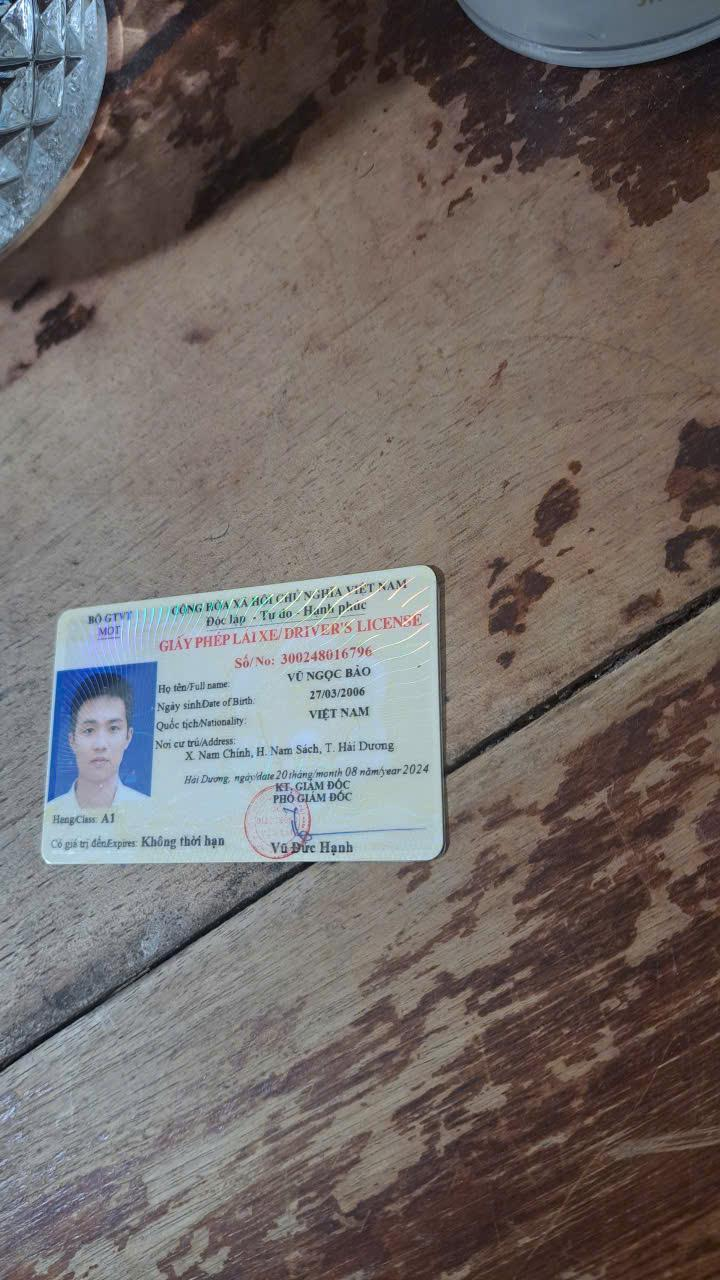gplx: (36, 561, 450, 870)
